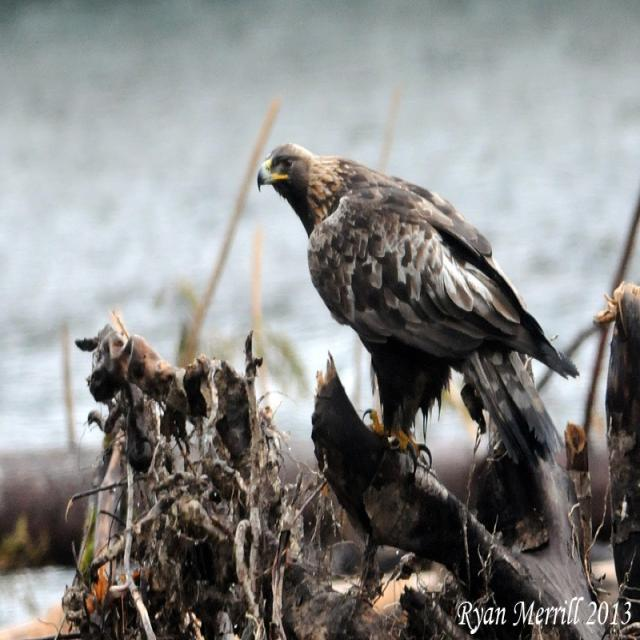bird: (248, 136, 579, 484)
